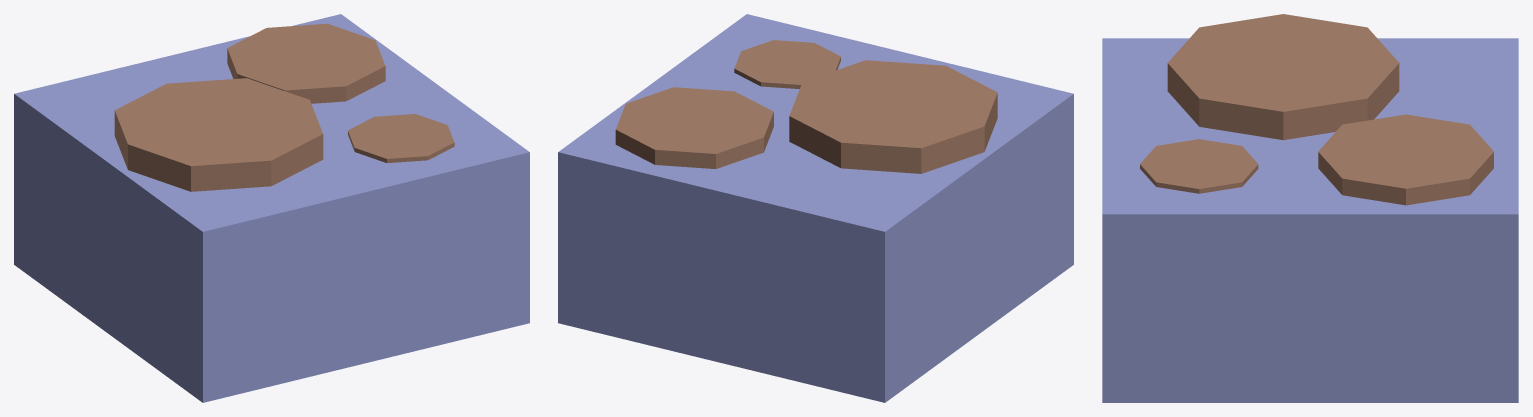
Rendered from path1.fbx.
3 renders of one model, left to right at view 1: azimuth 30°, elevation 25°; view 2: azimuth 150°, elevation 25°; view 3: azimuth 270°, elevation 25°, orthographic. The views are drawn at different scales.
Visible parts, largest first — view 1: path3; view 2: path3; view 3: path3.
Part boxes in pixels (x1,y1,x2,y2): path3: (14, 14, 529, 402); path3: (558, 14, 1073, 402); path3: (1102, 14, 1518, 402).
Size of the model in its own units: 200 by 115 by 200.
